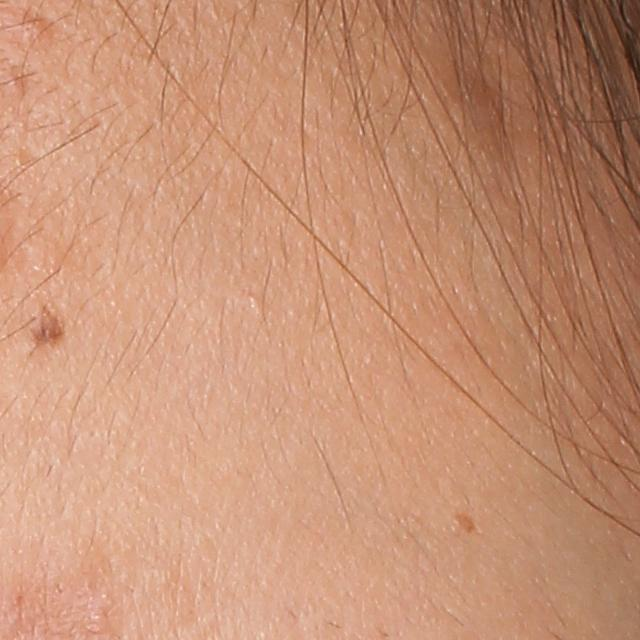comedo: (249, 293, 266, 315)
melasma: (453, 511, 485, 538)
